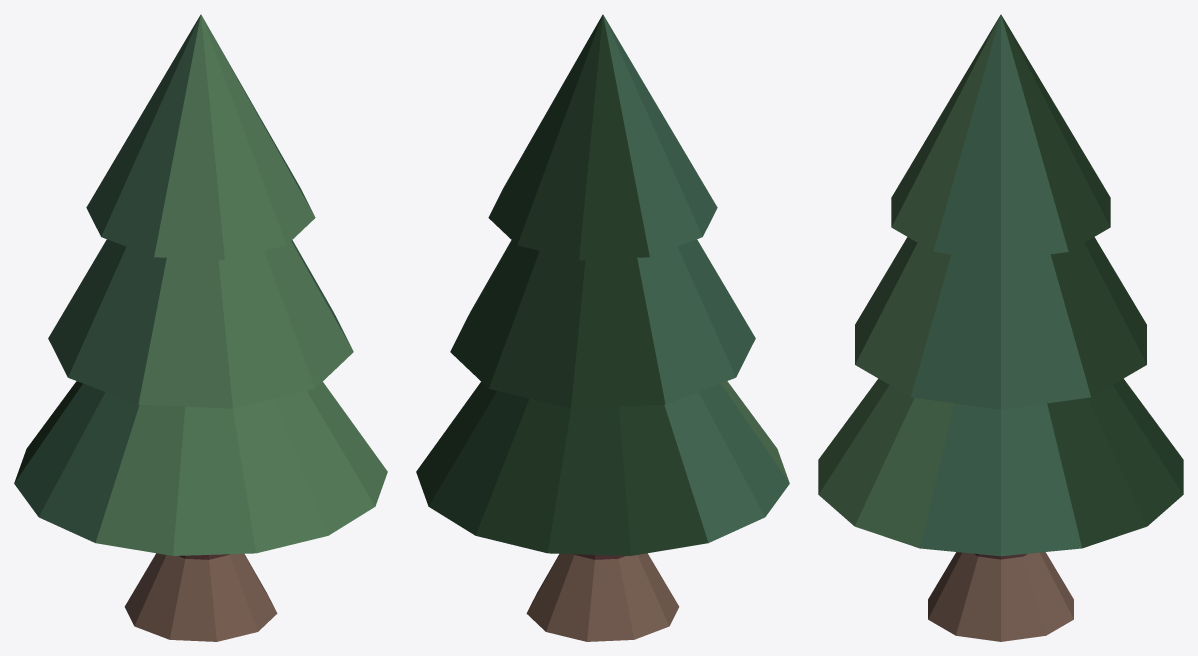
File: arvore.fbx
The picture shows the model from 3 angles, left to right: view 1: azimuth 30°, elevation 25°; view 2: azimuth 150°, elevation 25°; view 3: azimuth 270°, elevation 25°; orthographic projection.
Parts seen in each view (by area): view 1: cone; view 2: cone; view 3: cone.
Boxes of the visible parts, left/top/right/bottom form: cone: left=14, top=14, right=387, bottom=641; cone: left=416, top=14, right=789, bottom=641; cone: left=818, top=14, right=1183, bottom=641.
Size of the model in its own units: 32.05 by 56.25 by 31.25.
Materials: 1 (1 with a texture image).
